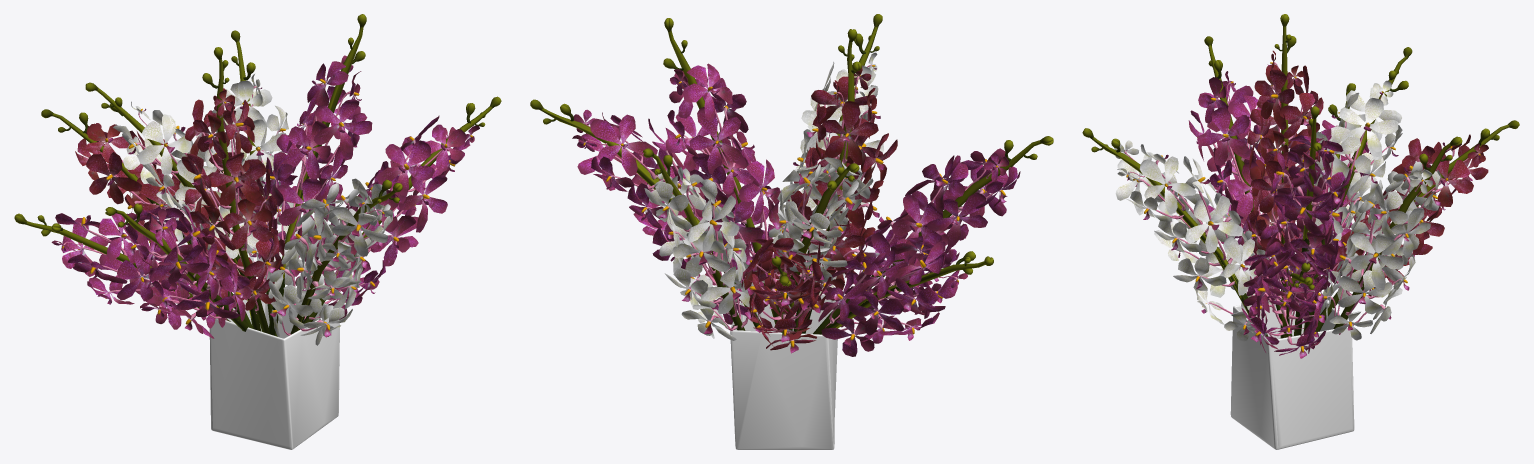
The model's file is lavanda-en-jarron-de-vidrio.glb.
The picture shows the model from 3 angles, left to right: view 1: azimuth 30°, elevation 25°; view 2: azimuth 150°, elevation 25°; view 3: azimuth 270°, elevation 25°; orthographic projection. The views are drawn at different scales.
Visible parts, largest first — view 1: SketchUp.254, SketchUp.901, SketchUp, SketchUp.049, SketchUp.008, SketchUp.295, SketchUp.834, SketchUp.001; view 2: SketchUp.254, SketchUp.901, SketchUp.049, SketchUp, SketchUp.008, SketchUp.295, SketchUp.834, SketchUp.001; view 3: SketchUp.901, SketchUp.254, SketchUp, SketchUp.049, SketchUp.008, SketchUp.834, SketchUp.295, SketchUp.001.
Part boxes in pixels (box(x1,y1,x2,y2)): SketchUp.254: box(51, 55, 479, 338); SketchUp.901: box(113, 74, 392, 345); SketchUp: box(209, 291, 339, 449); SketchUp.049: box(75, 88, 284, 310); SketchUp.008: box(62, 69, 472, 335); SketchUp.295: box(14, 14, 501, 335); SketchUp.834: box(85, 30, 402, 336); SketchUp.001: box(41, 47, 270, 334); SketchUp.254: box(572, 63, 1020, 356); SketchUp.901: box(644, 52, 883, 340); SketchUp.049: box(741, 66, 897, 350); SketchUp: box(730, 293, 838, 449); SketchUp.008: box(583, 64, 1005, 347); SketchUp.295: box(530, 18, 1053, 334); SketchUp.834: box(643, 14, 882, 331); SketchUp.001: box(771, 29, 861, 335); SketchUp.901: box(1114, 80, 1441, 341); SketchUp.254: box(1126, 64, 1480, 358); SketchUp: box(1230, 301, 1354, 449); SketchUp.049: box(1246, 50, 1488, 297); SketchUp.008: box(1124, 62, 1480, 352); SketchUp.834: box(1082, 47, 1462, 336); SketchUp.295: box(1204, 36, 1355, 337); SketchUp.001: box(1274, 14, 1519, 338).
Bounding box in the file's own units: 0.5817 × 0.4729 × 0.491.
8 materials, 7 textured.
